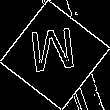M_S: (29, 27, 81, 83)
